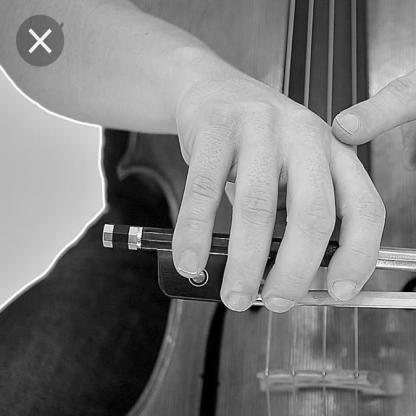good: (167, 35, 391, 343)
